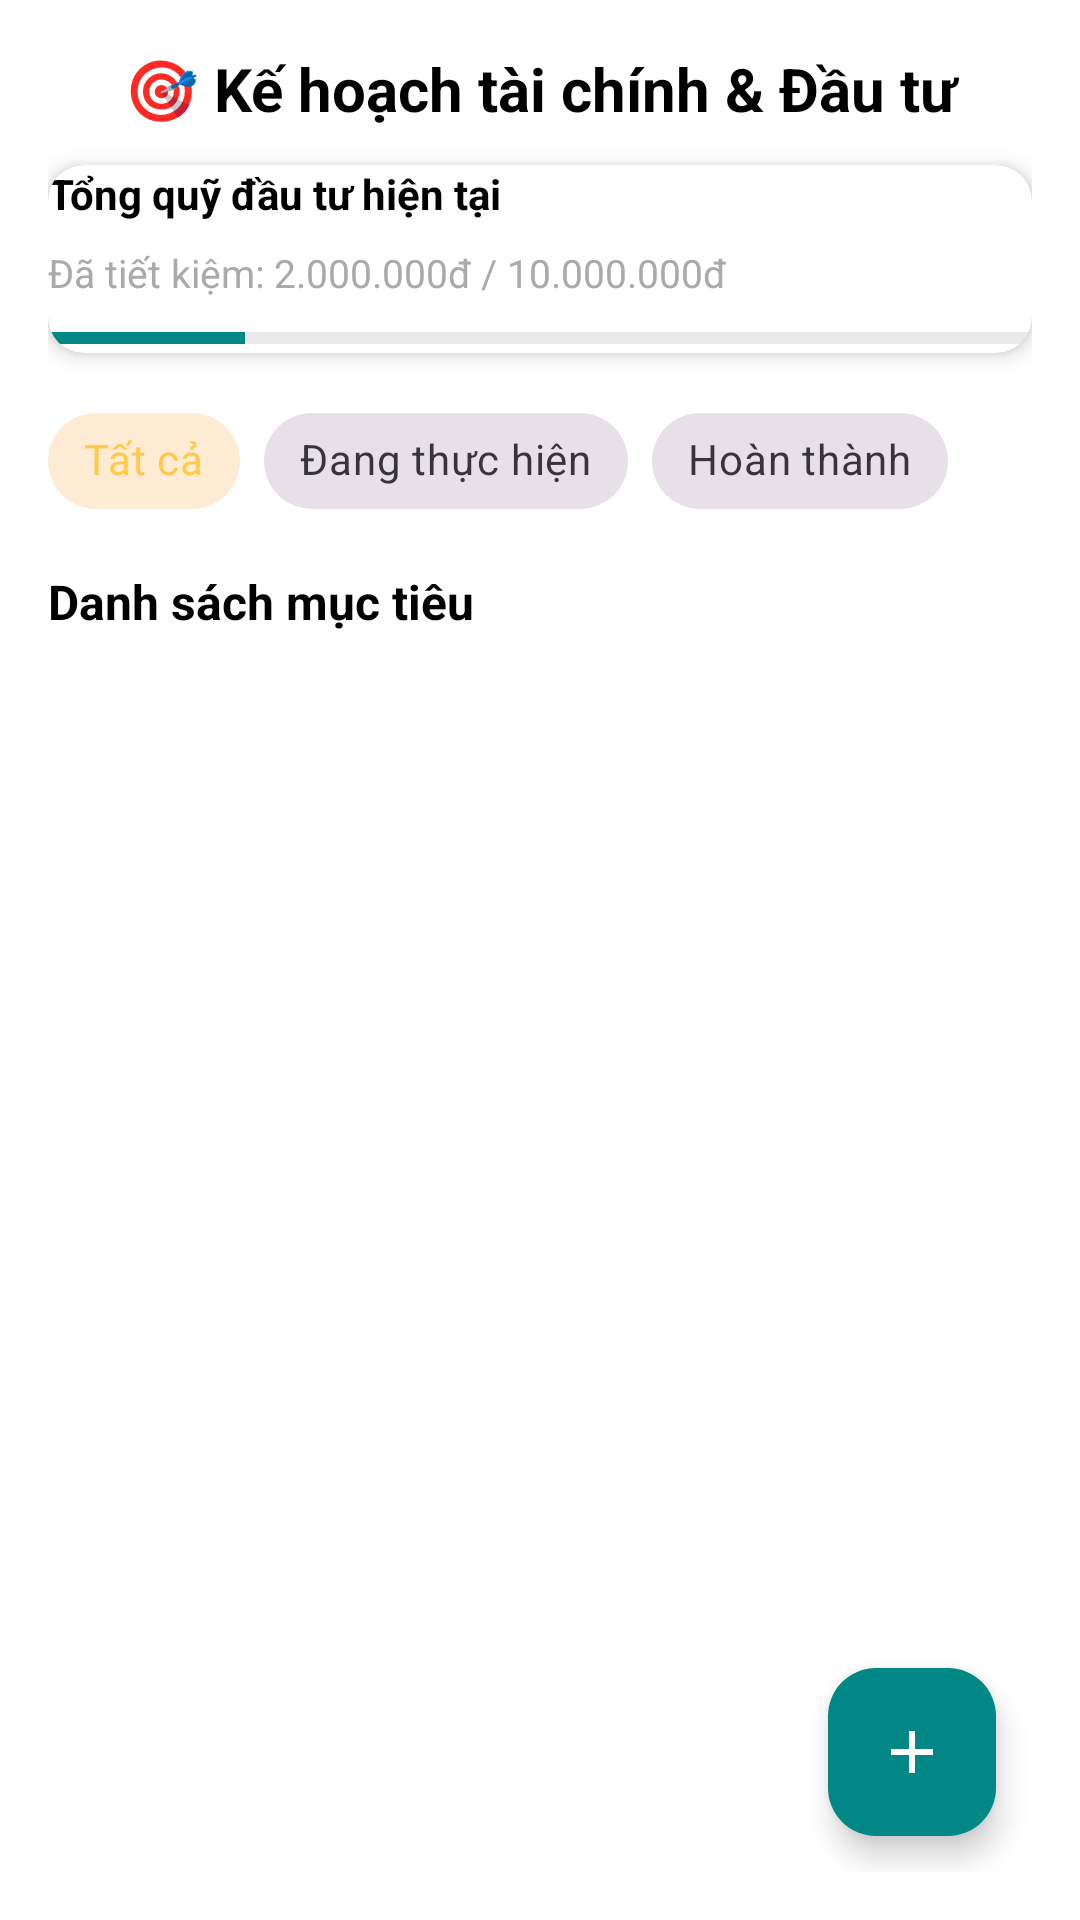

Screen size 1080 × 1920. Icon name, then its box in pixels as (left=x1, top=y1, right=x2, bottom=y2):
Thêm mục tiêu: (left=828, top=1668, right=996, bottom=1836)
